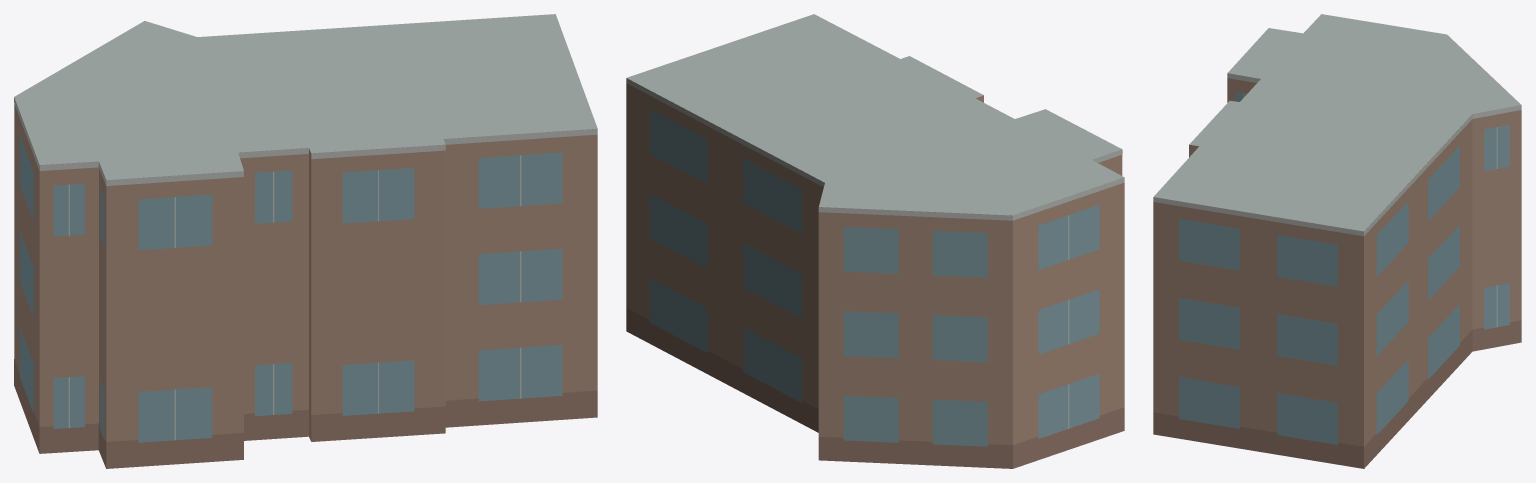
Rendered from survey-upis-33022137.glb.
3 views of the same model, side by side, from view 1: azimuth 30°, elevation 25°; view 2: azimuth 150°, elevation 25°; view 3: azimuth 270°, elevation 25° (orthographic). The views are drawn at different scales.
Parts seen in each view (by area): view 1: survey-upis-33022137.tmp; view 2: survey-upis-33022137.tmp; view 3: survey-upis-33022137.tmp.
Boxes of the visible parts, box(x1,y1,x2,y2) form: survey-upis-33022137.tmp: box(14, 14, 597, 468); survey-upis-33022137.tmp: box(626, 14, 1124, 468); survey-upis-33022137.tmp: box(1153, 14, 1521, 468).
Size of the model in its own units: 23.39 by 11.9 by 16.74.
